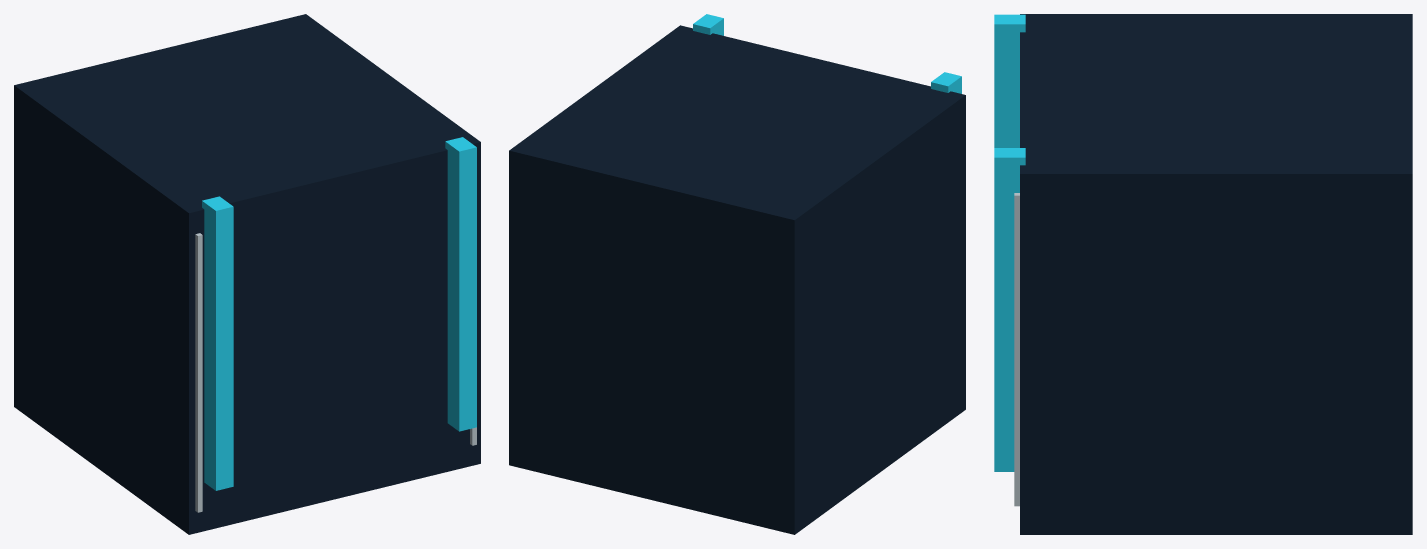
Rendered from 29_L75_WaferCarrierCassette.fbx.
The picture shows the model from 3 angles, left to right: view 1: azimuth 30°, elevation 25°; view 2: azimuth 150°, elevation 25°; view 3: azimuth 270°, elevation 25°; orthographic projection. The views are drawn at different scales.
Parts seen in each view (by area): view 1: WaferCarrierCassette; view 2: WaferCarrierCassette; view 3: WaferCarrierCassette.
Boxes of the visible parts, bbox=[...] form: WaferCarrierCassette: bbox=[14, 14, 480, 534]; WaferCarrierCassette: bbox=[509, 14, 965, 534]; WaferCarrierCassette: bbox=[994, 14, 1412, 534].
Bounding box in the file's own units: 132 × 142 × 146.
